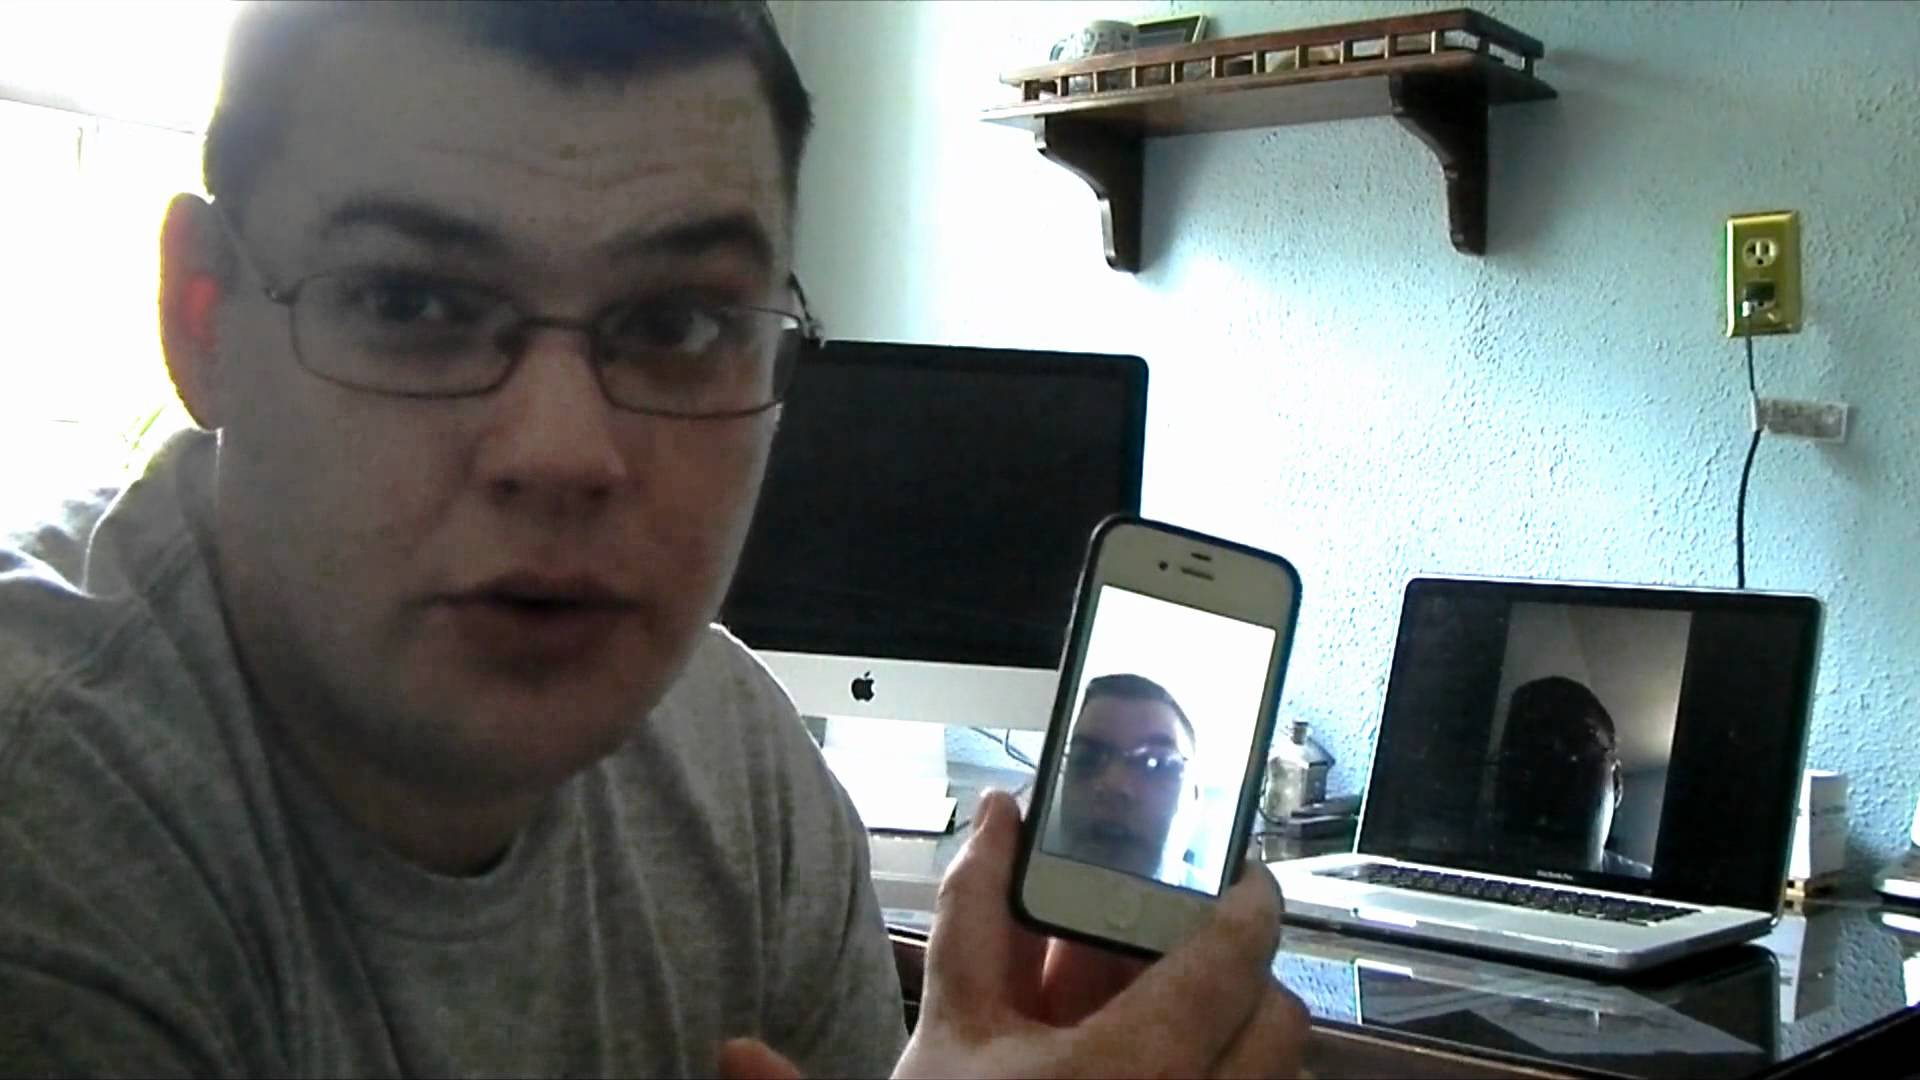smartphone: (1006, 514, 1304, 967)
